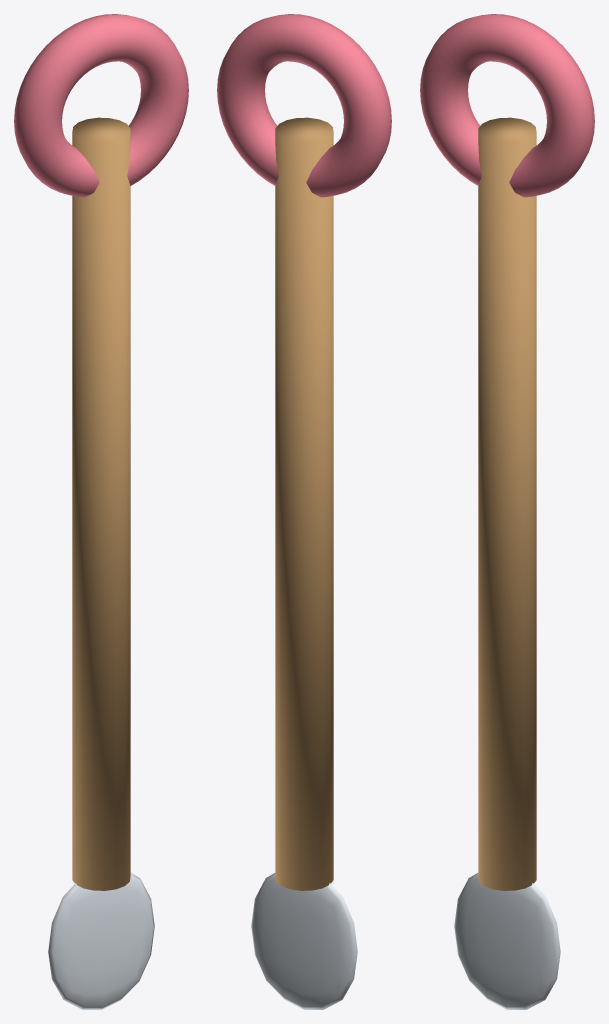
Rendered from tool-shovel.glb.
3 renders of one model, left to right at view 1: azimuth 30°, elevation 25°; view 2: azimuth 150°, elevation 25°; view 3: azimuth 330°, elevation 25°, orthographic.
Parts seen in each view (by area): view 1: Cylinder, Torus, Cube; view 2: Cylinder, Torus, Cube; view 3: Cylinder, Torus, Cube.
Part boxes in pixels (x1=…): Cylinder: x1=72, y1=117, x2=130, y2=890; Torus: x1=14, y1=14, x2=188, y2=197; Cube: x1=48, y1=873, x2=154, y2=1009; Cylinder: x1=275, y1=117, x2=333, y2=890; Torus: x1=217, y1=14, x2=391, y2=197; Cube: x1=251, y1=873, x2=357, y2=1009; Cylinder: x1=478, y1=117, x2=536, y2=890; Torus: x1=420, y1=14, x2=594, y2=197; Cube: x1=454, y1=873, x2=560, y2=1009.
Size of the model in its own units: 0.146 by 0.8218 by 0.044.
